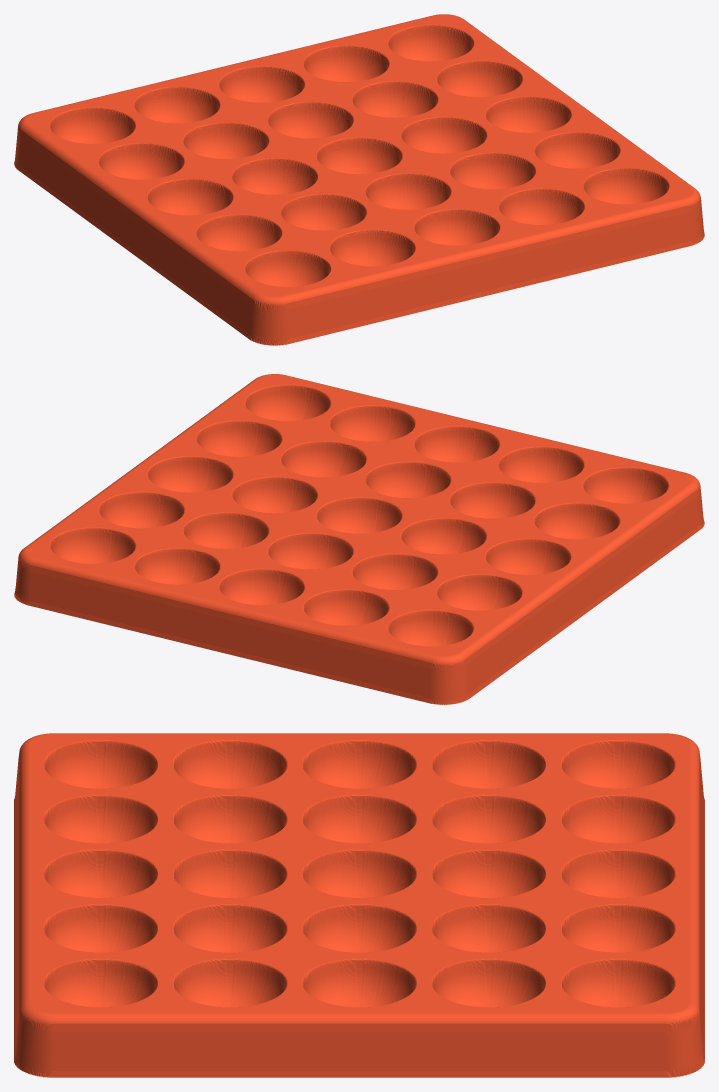
The model's file is mold.glb.
3 renders of one model, top to bottom at view 1: azimuth 30°, elevation 25°; view 2: azimuth 150°, elevation 25°; view 3: azimuth 270°, elevation 25°, orthographic. The views are drawn at different scales.
Parts seen in each view (by area): view 1: geometry_0; view 2: geometry_0; view 3: geometry_0.
Boxes of the visible parts, x1,y1,x2,y2 form: geometry_0: (14,14,704,345); geometry_0: (14,374,704,704); geometry_0: (14,733,704,1077).
Size of the model in its own units: 0.1584 by 0.0147 by 0.1584.
